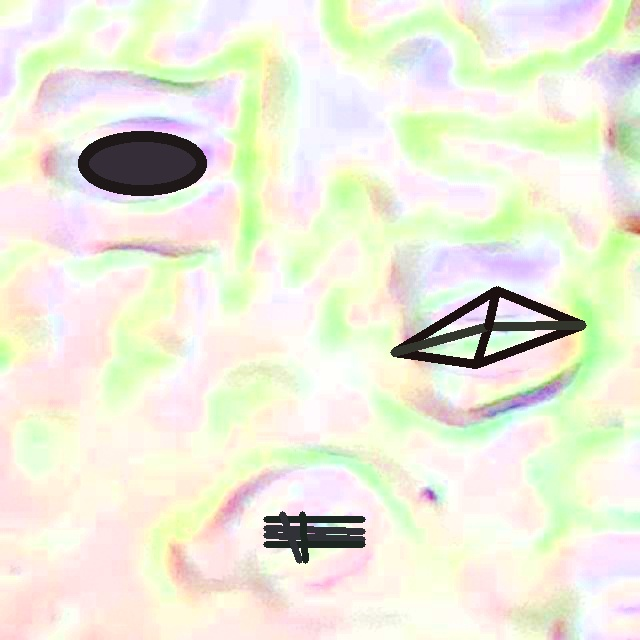open: (391, 286, 586, 367), (77, 131, 206, 195), (263, 511, 364, 563)
